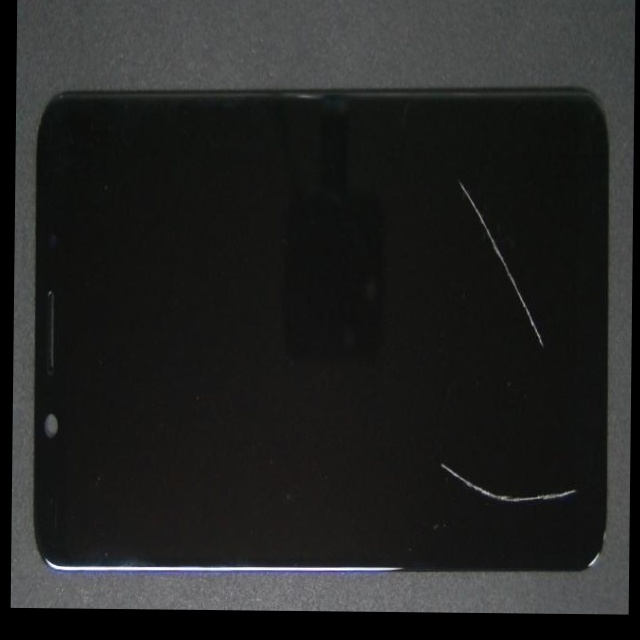scratch: (293, 263, 632, 615), (343, 262, 632, 435)
